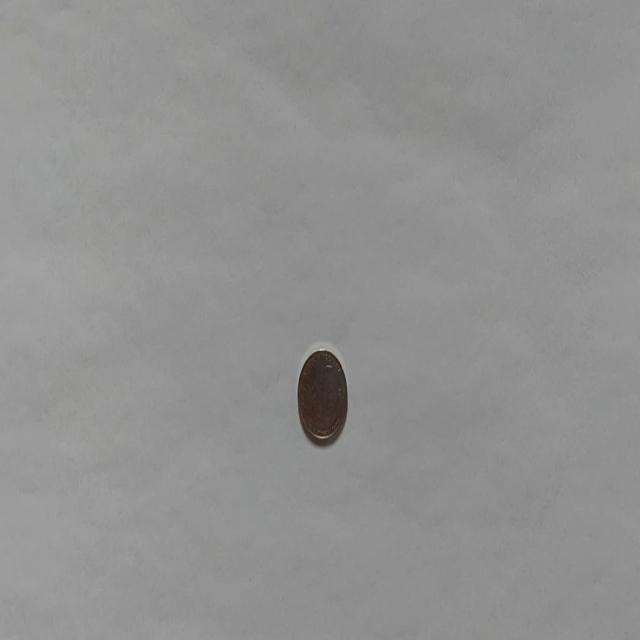seribu rupiah koin: (296, 343, 348, 445)
